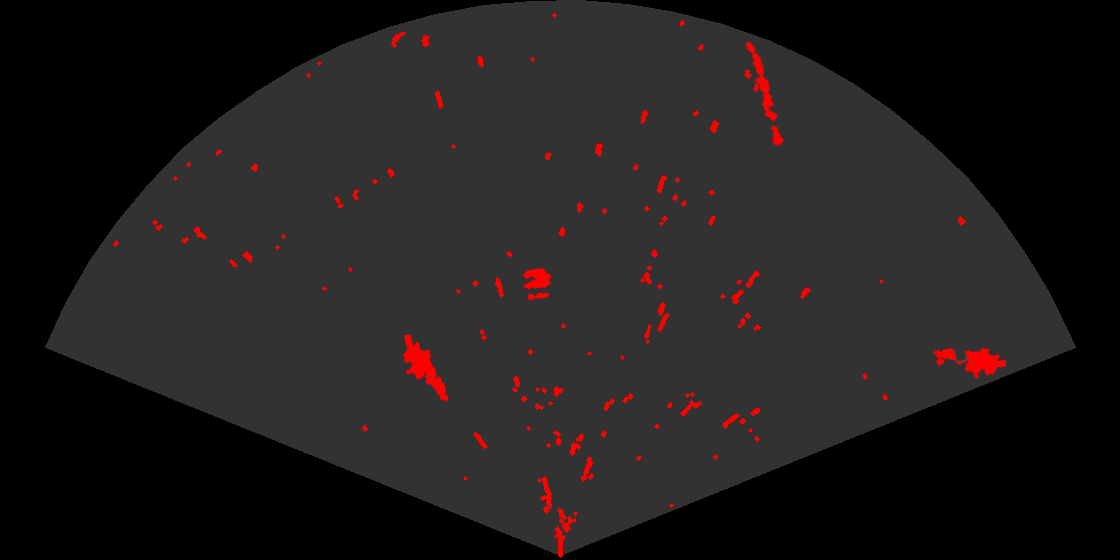ball: (521, 266, 553, 302)
chain: (744, 40, 786, 148)
frogman: (401, 335, 450, 403), (932, 347, 1006, 380)
